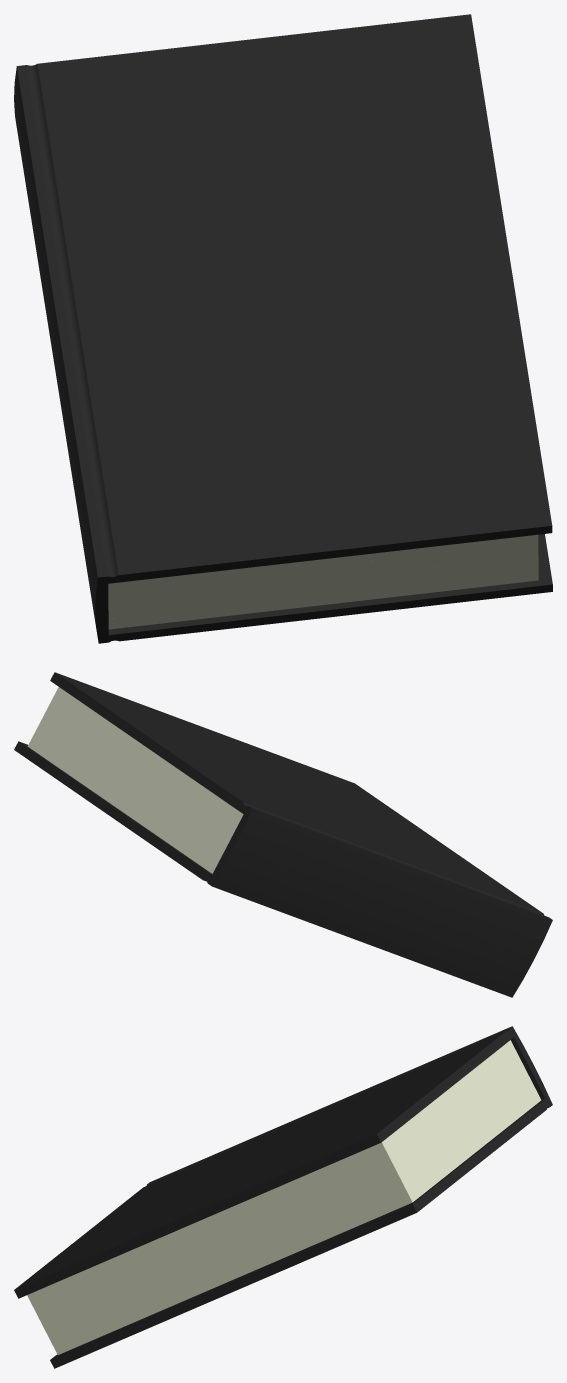
The model's file is simple_book.glb.
3 views of the same model, one above another, from view 1: azimuth 30°, elevation 25°; view 2: azimuth 150°, elevation 25°; view 3: azimuth 270°, elevation 25° (orthographic). The views are drawn at different scales.
Parts seen in each view (by area): view 1: Body1; view 2: Body1; view 3: Body1, Body40, Body17, Body34, Body49, Body61, Body77, Body28, Body46, Body73, Body83, Body89 (+77 smaller).
Boxes of the visible parts, x1,y1,x2,y2 form: Body1: (14,14,552,643); Body1: (14,672,552,997); Body1: (14,1026,552,1368); Body40: (44,1074,528,1329); Body17: (52,1090,536,1345); Body34: (47,1078,530,1333); Body49: (41,1068,525,1323); Body61: (37,1060,520,1315); Body77: (31,1049,515,1304); Body28: (49,1082,532,1337); Body46: (42,1070,526,1325); Body73: (33,1052,516,1307); Body83: (29,1045,513,1300); Body89: (27,1041,511,1296).
Bounding box in the file's own units: 0.2503 × 0.1791 × 0.2851.
